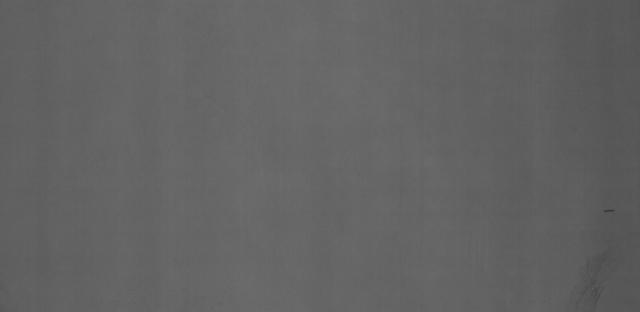inclusion: (598, 201, 624, 220)
water_spot: (557, 235, 620, 307)
